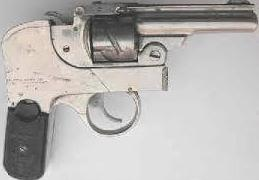gun: (1, 1, 259, 180)
